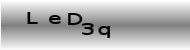3: (80, 22, 93, 35)
D: (67, 13, 82, 25)
L: (26, 10, 38, 25)
e: (48, 13, 61, 24)
q: (98, 24, 111, 39)
